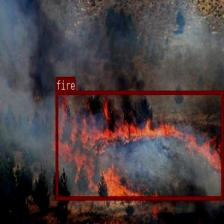fire: (55, 90, 223, 199)
